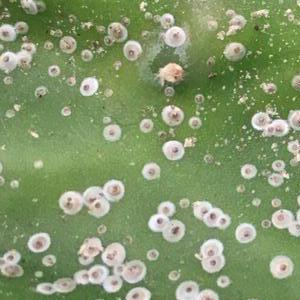Femea: (138, 161, 157, 181), (0, 50, 17, 70), (226, 43, 244, 61), (161, 28, 182, 43), (163, 141, 181, 158), (79, 80, 98, 96), (165, 222, 182, 239), (253, 113, 273, 127), (0, 23, 17, 39), (159, 11, 175, 27), (237, 226, 255, 240), (123, 44, 140, 58), (36, 280, 53, 294), (103, 277, 122, 289), (240, 163, 254, 179), (104, 126, 121, 139), (38, 255, 56, 267), (92, 200, 106, 215), (148, 215, 164, 227), (156, 204, 170, 217), (138, 118, 153, 130), (273, 158, 285, 172), (215, 215, 229, 227), (14, 20, 26, 33), (194, 204, 206, 217), (166, 267, 178, 280), (204, 209, 218, 220), (19, 53, 30, 67), (215, 276, 227, 288), (189, 114, 200, 127), (20, 43, 33, 54), (48, 64, 60, 75), (259, 217, 270, 229), (269, 174, 281, 184), (147, 249, 158, 259), (269, 197, 279, 207), (112, 264, 122, 273), (81, 50, 91, 58)
